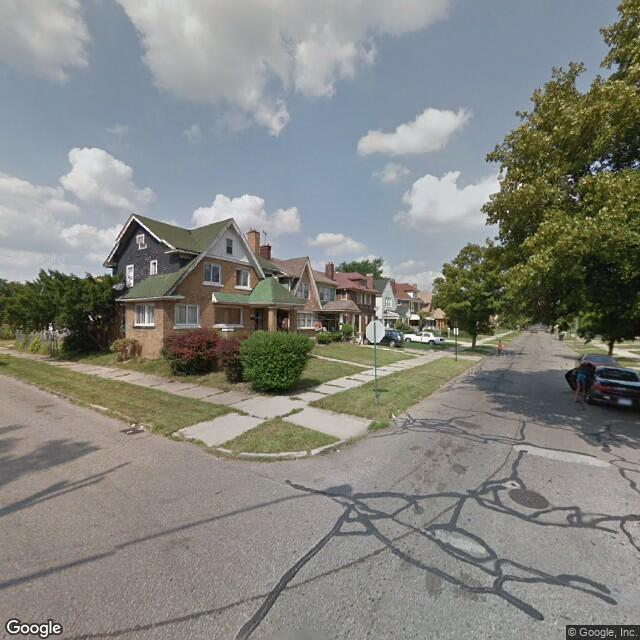litter: (130, 421, 145, 432), (336, 449, 343, 455), (391, 413, 395, 419)
